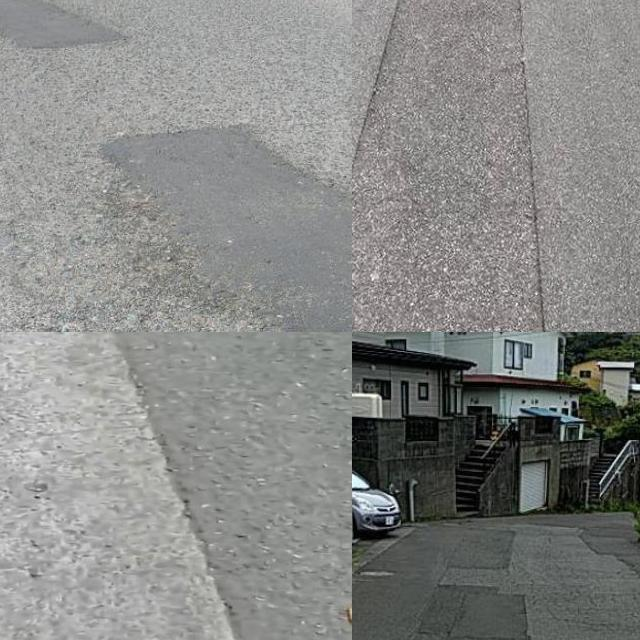Sambungan: (0, 332, 248, 640), (352, 0, 549, 332), (101, 122, 352, 332), (0, 0, 132, 53)
